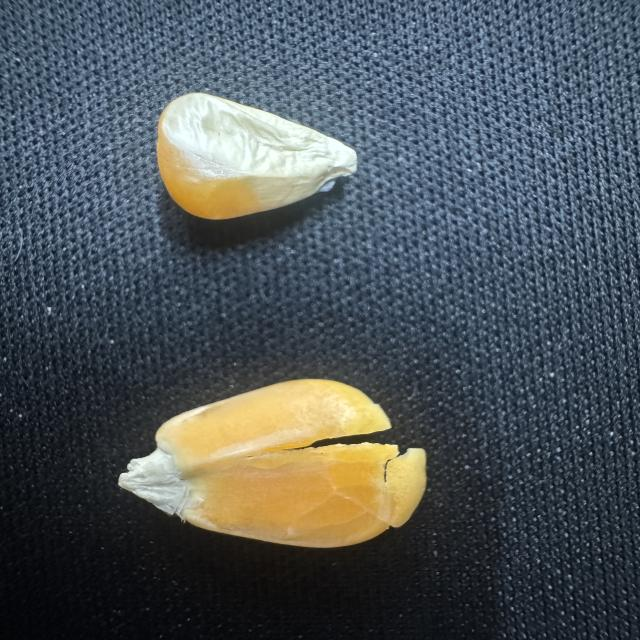Bad-Seed: (107, 364, 434, 564), (144, 86, 370, 253)
